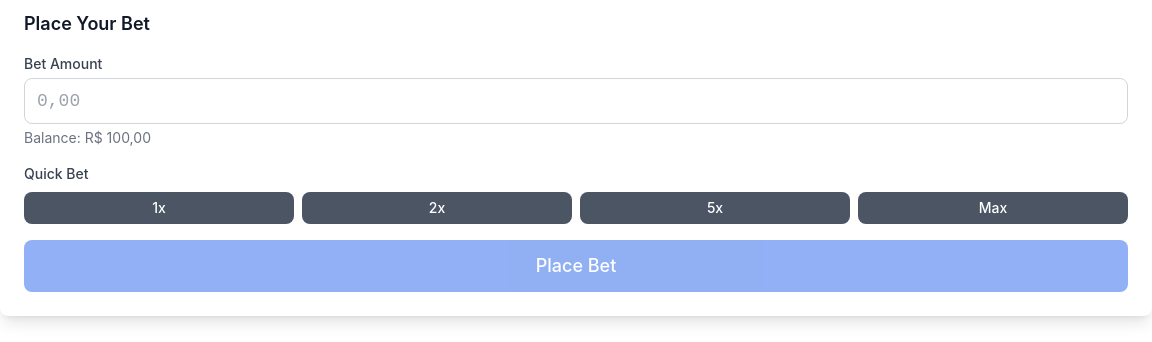
Test: BetForm - Preservation Tests (Task 1.5) › Requirement 3.7: Quick bet buttons still work correctly › Max button populates bet amount correctly
balance is 10000 centavos (R$ 100.00)
What coordinates should you click on to do the following:
click the button with aria-label "maximum bet"
I would click on:
 (993, 208)
Its box is [858, 192, 1128, 224].
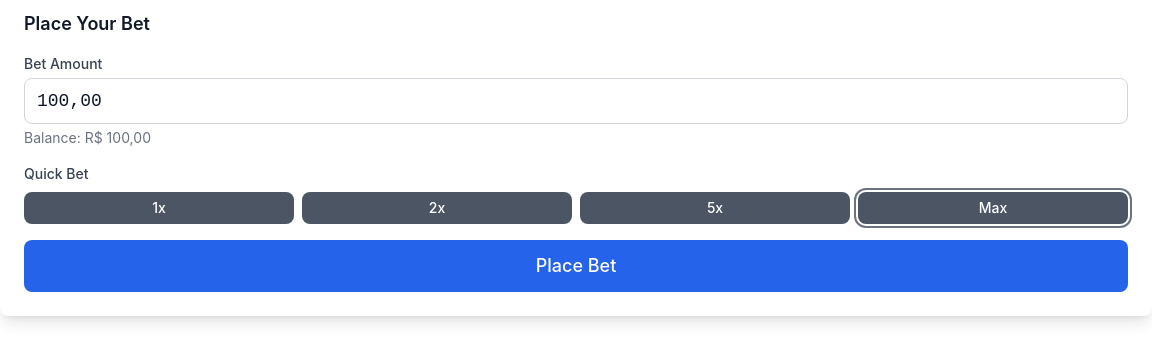
Check: the field showing "100,00" is shown, box [24, 78, 1128, 124]
